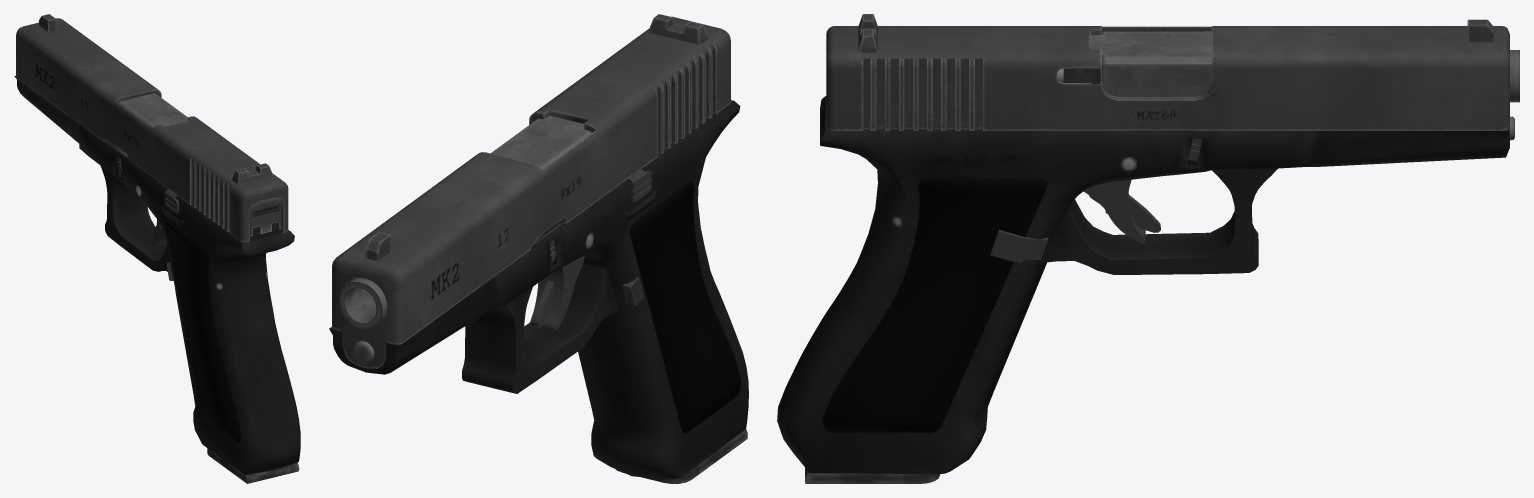
The model's file is glock17-G45SSZ5U.glb.
The picture shows the model from 3 angles, left to right: view 1: azimuth 30°, elevation 25°; view 2: azimuth 150°, elevation 25°; view 3: azimuth 270°, elevation 25°; orthographic projection. The views are drawn at different scales.
Visible parts, largest first — view 1: body, slide, mag; view 2: body, slide, mag; view 3: body, slide, mag.
Boxes of the visible parts, box(x1,y1,x2,y2) form: body: box(14, 75, 300, 474); slide: box(16, 14, 288, 242); mag: box(207, 448, 299, 483); body: box(329, 100, 748, 479); slide: box(332, 14, 730, 368); mag: box(615, 429, 747, 483); body: box(777, 96, 1514, 474); slide: box(826, 14, 1519, 148); mag: box(805, 467, 940, 483).
Bounding box in the file's own units: 0.0259 × 0.1223 × 0.186.
2 materials, 2 textured.
